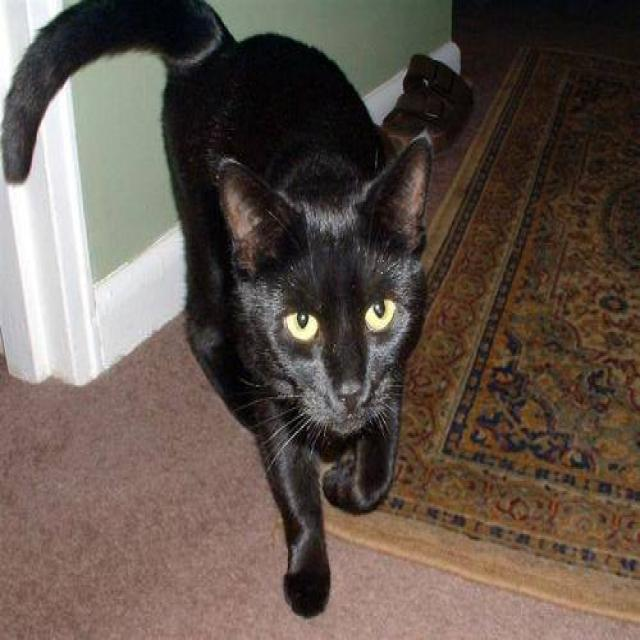cat: (0, 0, 434, 618)
